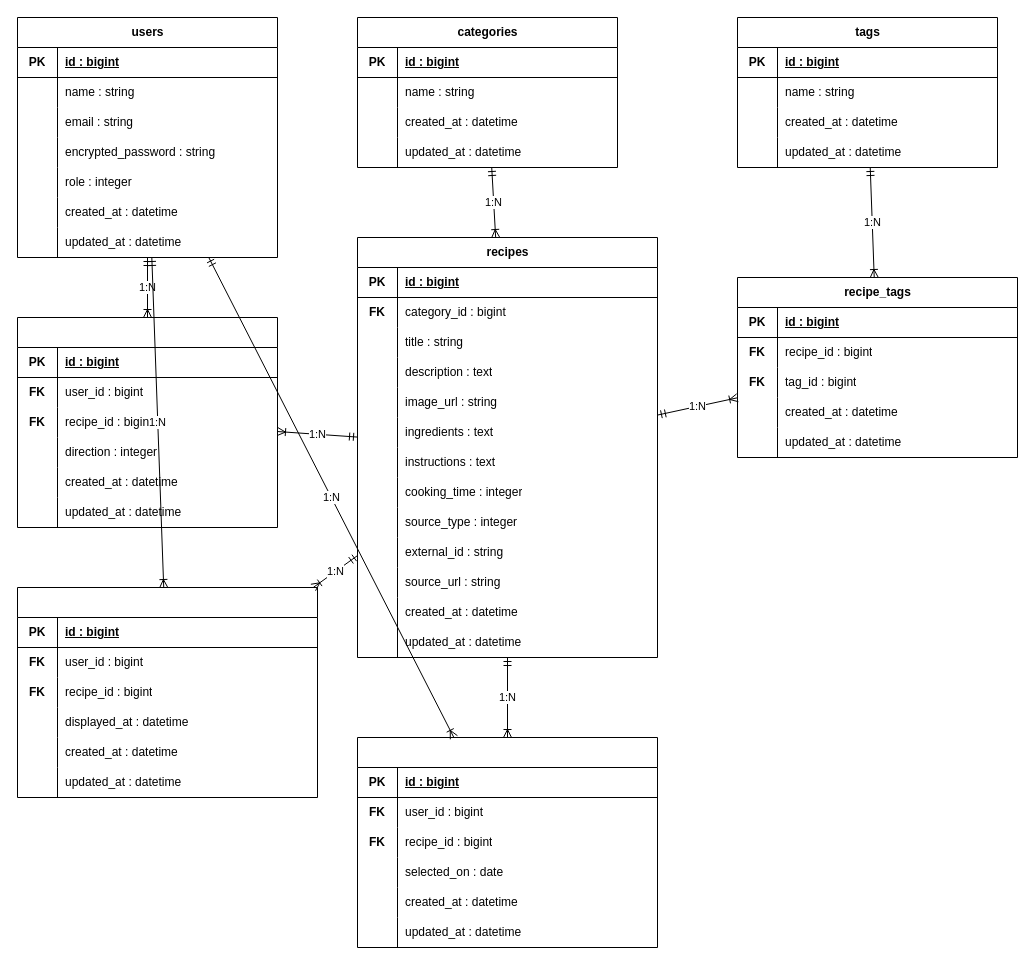
This 1035x965 diagram has some shape labels left out. Here are the shapes that lost their labels. From the top down, the box of each, then its label:
(16, 316, 278, 528): swipes
(16, 586, 318, 798): recipe_impressions
(356, 736, 658, 948): daily_selections
